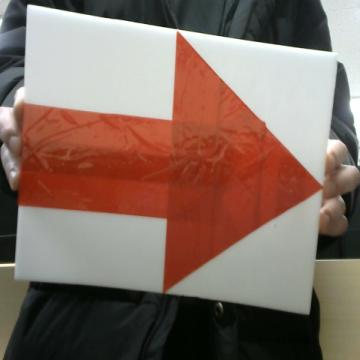red_right: (19, 32, 321, 291)
